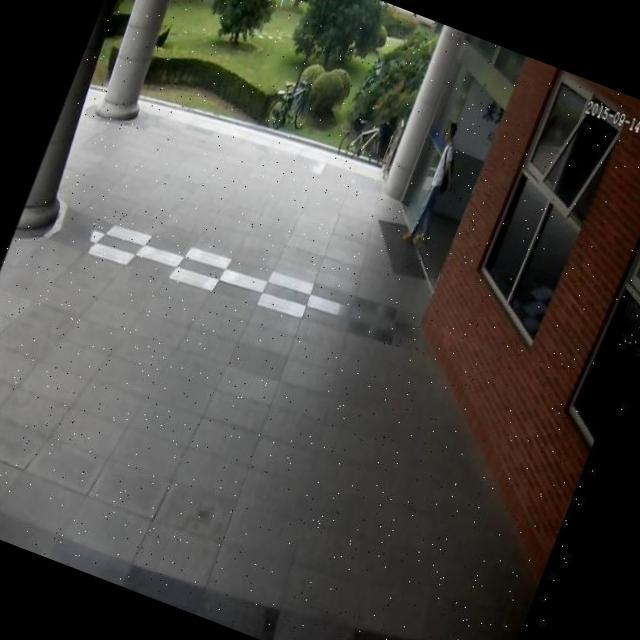person: (394, 109, 485, 271)
